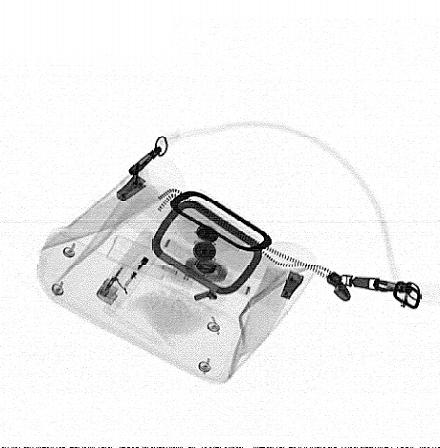Lighter: (95, 231, 166, 310)
